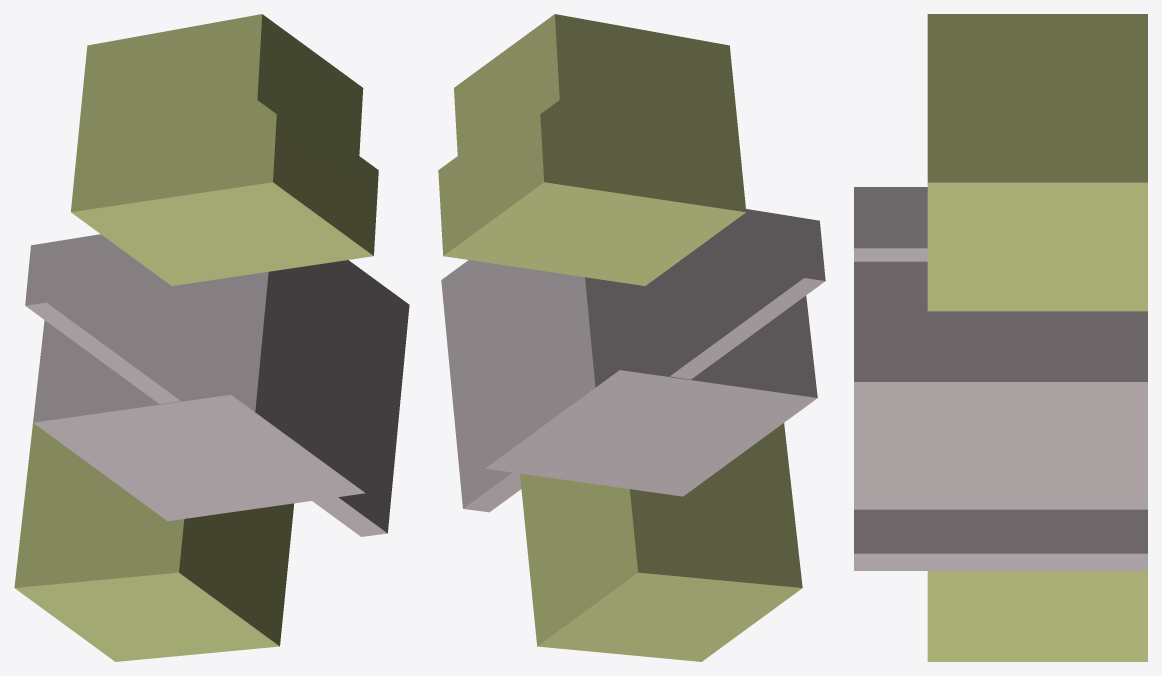
The picture shows the model from 3 angles, left to right: view 1: azimuth 30°, elevation 25°; view 2: azimuth 150°, elevation 25°; view 3: azimuth 270°, elevation 25°; orthographic projection. The views are drawn at different scales.
Visible parts, largest first — view 1: 0_3_0_1_1_2_1_0_0_3; view 2: 0_3_0_1_1_2_1_0_0_3; view 3: 0_3_0_1_1_2_1_0_0_3.
Part boxes in pixels (x1,y1,x2,y2): 0_3_0_1_1_2_1_0_0_3: (14, 14, 409, 661); 0_3_0_1_1_2_1_0_0_3: (438, 14, 825, 661); 0_3_0_1_1_2_1_0_0_3: (854, 14, 1147, 661).
Bounding box in the file's own units: 13.55 × 27.01 × 12.
